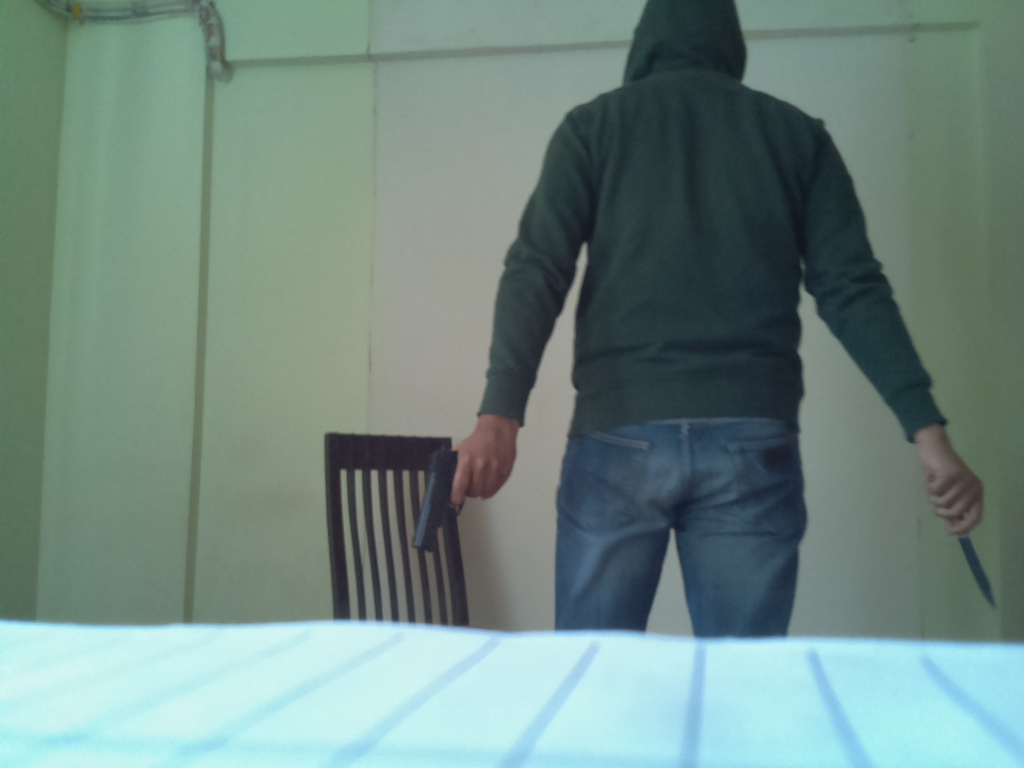gun: (408, 444, 502, 557)
knife: (930, 484, 1001, 620)
